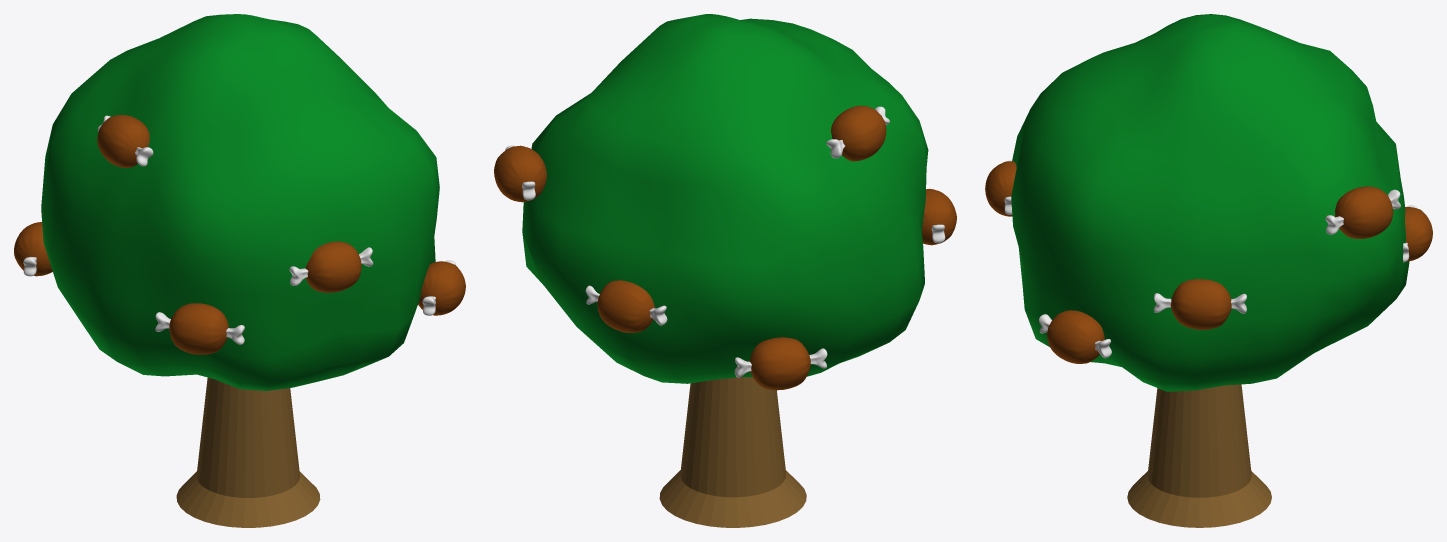
The model's file is meet_tree.fbx.
3 views of the same model, side by side, from view 1: azimuth 30°, elevation 25°; view 2: azimuth 150°, elevation 25°; view 3: azimuth 270°, elevation 25° (orthographic). The views are drawn at different scales.
Visible parts, largest first — view 1: 球, 円柱, 立方体.003, 立方体.001, 立方体.006, 立方体.000, 立方体.005; view 2: 球, 円柱, 立方体.005, 立方体.004, 立方体.006, 立方体.007, 立方体.003; view 3: 球, 円柱, 立方体.002, 立方体.007, 立方体.000, 立方体.001, 立方体.004.
Boxes of the visible parts, x1,y1,x2,y2 form: 球: [41, 14, 439, 390]; 円柱: [176, 377, 320, 527]; 立方体.003: [155, 303, 244, 354]; 立方体.001: [289, 241, 373, 292]; 立方体.006: [97, 115, 153, 167]; 立方体.000: [418, 260, 465, 315]; 立方体.005: [14, 222, 52, 276]; 球: [522, 14, 928, 383]; 円柱: [659, 377, 806, 527]; 立方体.005: [734, 337, 827, 390]; 立方体.004: [585, 280, 667, 332]; 立方体.006: [826, 105, 889, 161]; 立方体.007: [494, 145, 546, 202]; 立方体.003: [922, 189, 956, 245]; 球: [1011, 14, 1409, 391]; 円柱: [1127, 384, 1271, 527]; 立方体.002: [1153, 279, 1246, 329]; 立方体.007: [1325, 186, 1400, 238]; 立方体.000: [1039, 310, 1111, 363]; 立方体.001: [985, 160, 1016, 216]; 立方体.004: [1403, 205, 1432, 262].
Size of the model in its own units: 901 by 1166 by 1004.
